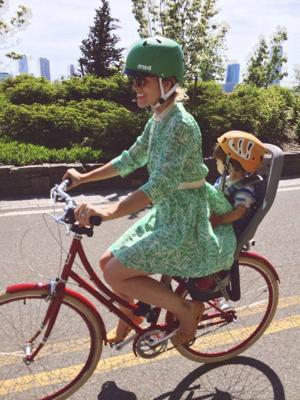With Helmet: (123, 31, 187, 113), (210, 121, 271, 184)
